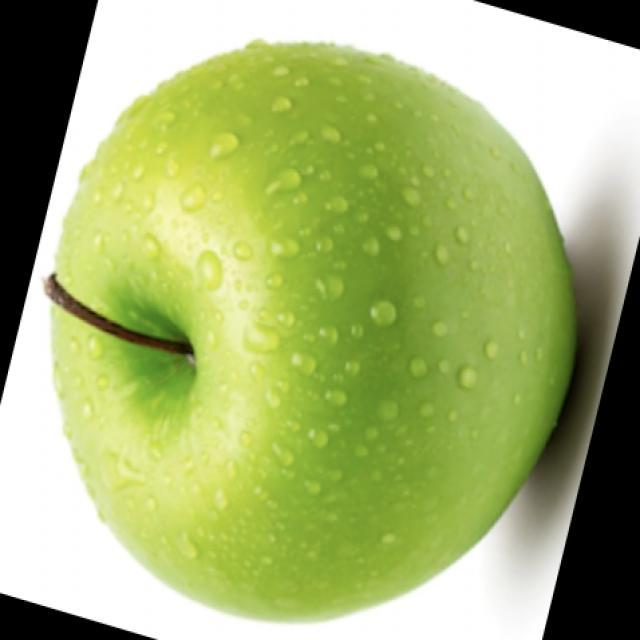Fresh Apple: (70, 71, 582, 592)
